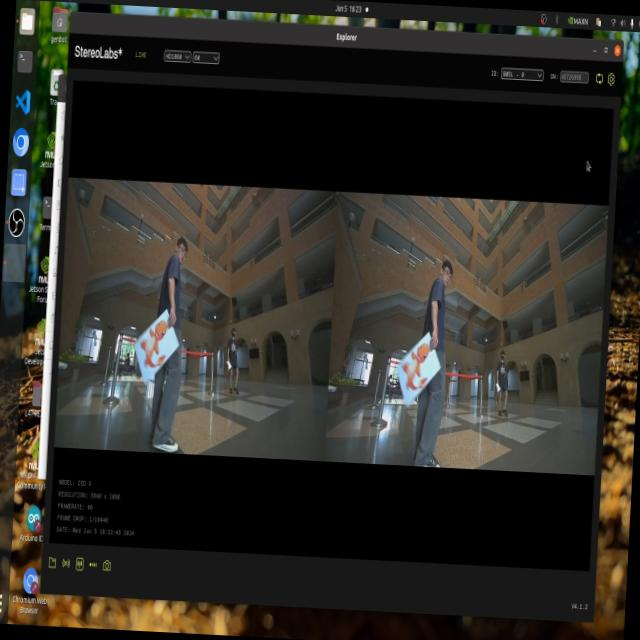red: (392, 340, 430, 394), (137, 314, 170, 374)
